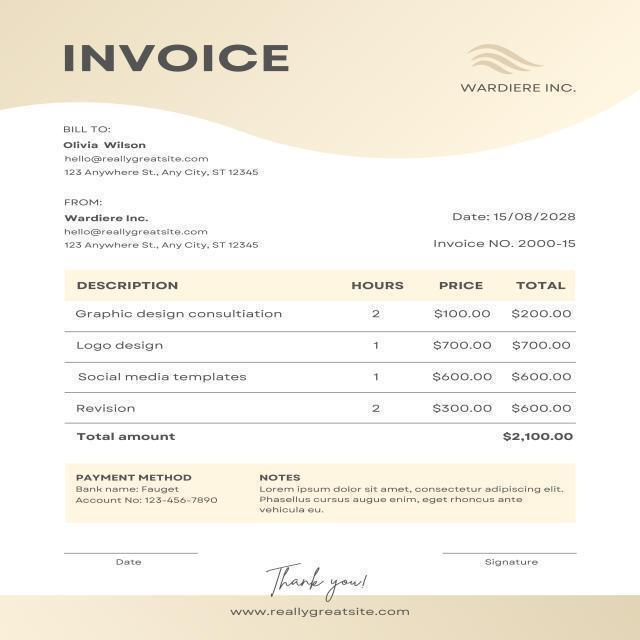paragraph: (249, 470, 573, 527), (54, 193, 272, 255), (55, 122, 271, 183), (53, 39, 307, 87), (428, 198, 594, 258), (65, 463, 226, 517), (261, 556, 374, 602), (230, 604, 413, 620), (460, 79, 588, 100), (484, 557, 544, 570), (112, 552, 152, 571)
table: (66, 269, 597, 446)
